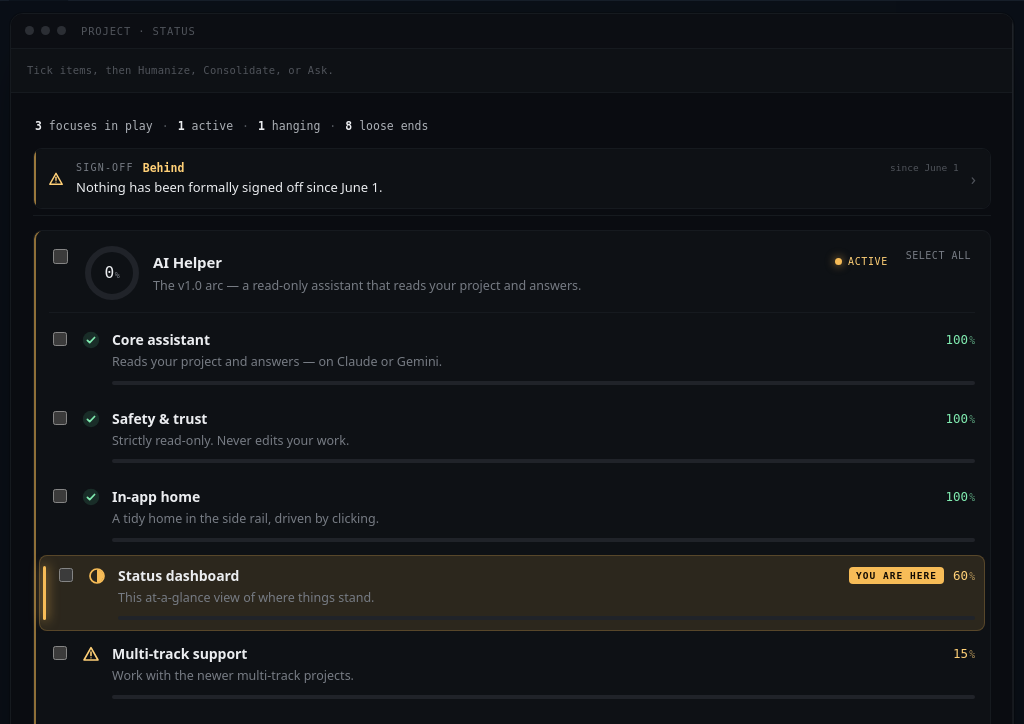
Test: selecting items reveals the toolbar with the count + Humanize/Ask; Ask opens the drawer
Click the 1st checkbox with test id "item-check".
click(60, 339)  # box [53,332,67,346]
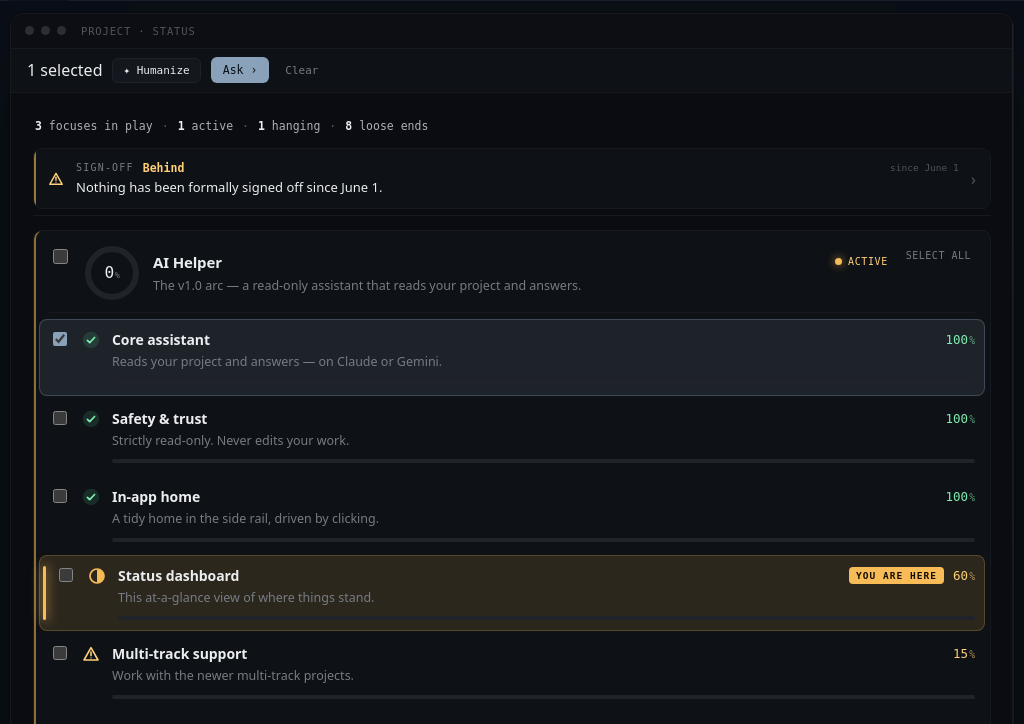
Click the 2nd checkbox with test id "item-check".
click(60, 418)  # box [53,411,67,425]
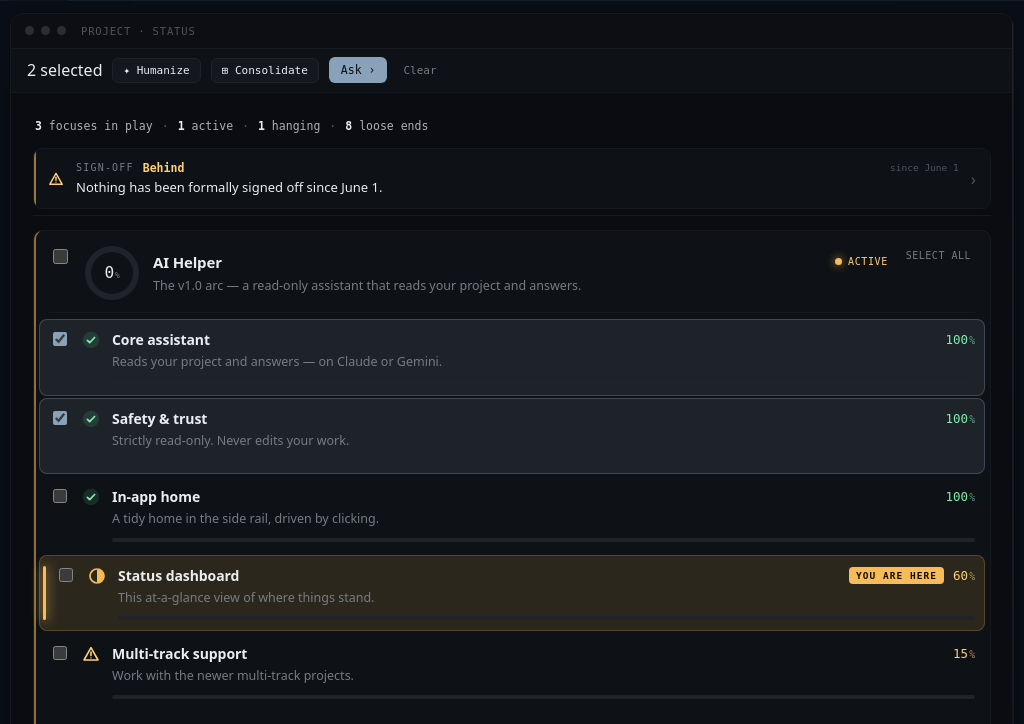
Check: the button with test id "op-humanize" is shown, box [112,58,201,83]
Check: the element with test id "ask-toolbar" shows "2 selected", box [27,59,102,81]
Click the button with test id "ask-batch".
click(358, 70)  # box [329,57,387,83]
(page scrolled)
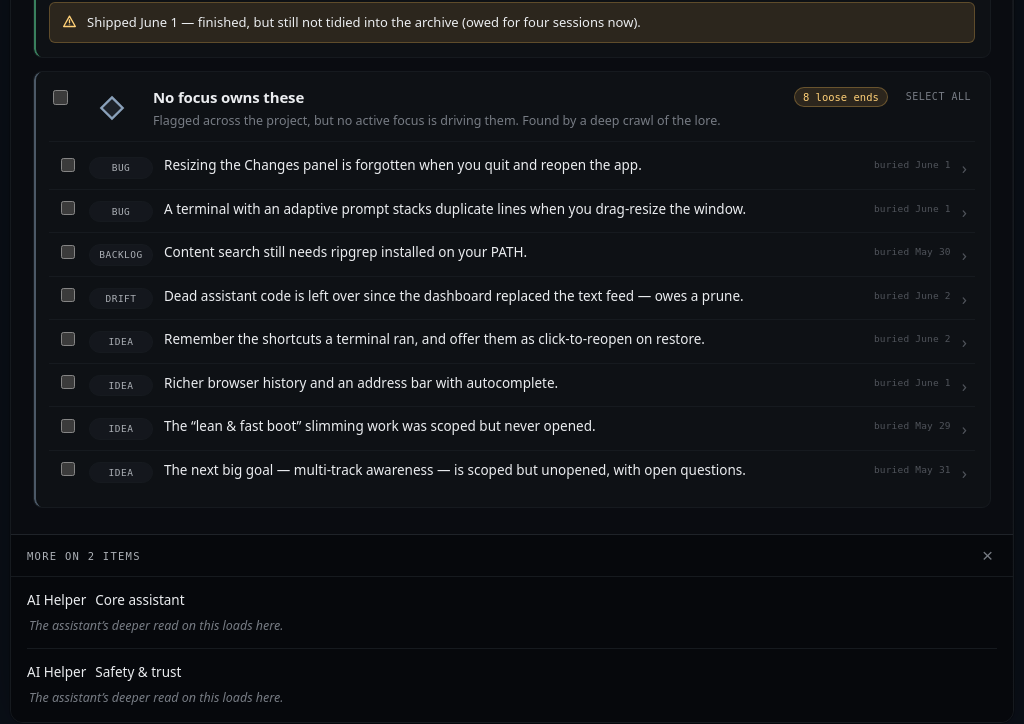
Check: the element with test id "detail-drawer" is shown, box [11,534,1013,722]
